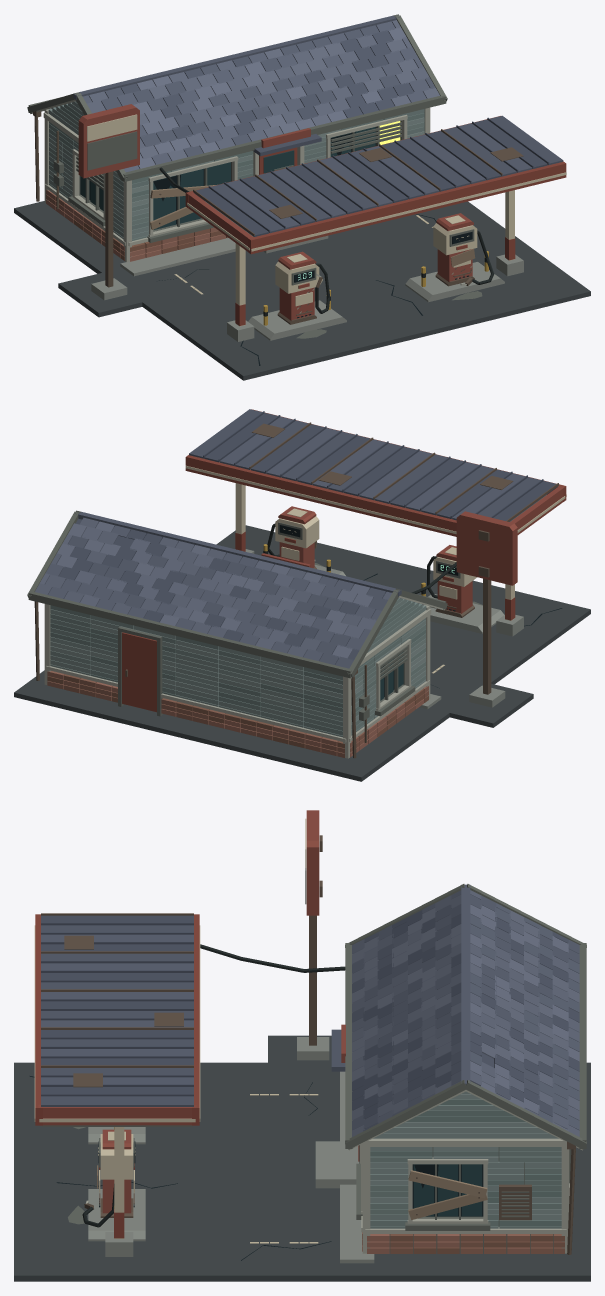
The model's file is Gas Station.fbx.
3 views of the same model, one above another, from view 1: azimuth 30°, elevation 25°; view 2: azimuth 150°, elevation 25°; view 3: azimuth 270°, elevation 25° (orthographic). The views are drawn at different scales.
Parts seen in each view (by area): view 1: 12 • forecourt slab, 07 • slate shingles, 09 • ribbed canopy roof, 03 • trim and boarded windows, 05 • brick base and entrance step, 06 • shop roof and fascia, 08 • canopy structure, 15 • roadside sign, 02 • sage clapboard siding, 04 • shop glazing, 20 • pump B body, 18 • pump A body (+5 smaller); view 2: 07 • slate shingles, 12 • forecourt slab, 02 • sage clapboard siding, 09 • ribbed canopy roof, 06 • shop roof and fascia, 05 • brick base and entrance step, 03 • trim and boarded windows, 08 • canopy structure, 15 • roadside sign, 14 • service hardware, 20 • pump B body, 18 • pump A body (+1 smaller); view 3: 12 • forecourt slab, 07 • slate shingles, 09 • ribbed canopy roof, 02 • sage clapboard siding, 05 • brick base and entrance step, 06 • shop roof and fascia, 03 • trim and boarded windows, 08 • canopy structure, 15 • roadside sign, 14 • service hardware, 20 • pump B body, 04 • shop glazing (+2 smaller).
Boxes of the visible parts, x1,y1,x2,y2 form: 12 • forecourt slab: (14,201,590,380); 07 • slate shingles: (83,20,439,172); 09 • ribbed canopy roof: (193,115,563,236); 03 • trim and boarded windows: (43,107,430,262); 05 • brick base and entrance step: (46,189,504,340); 06 • shop roof and fascia: (27,14,447,181); 08 • canopy structure: (185,116,566,254); 15 • roadside sign: (78,104,139,300); 02 • sage clapboard siding: (48,98,424,240); 04 • shop glazing: (80,121,400,229); 20 • pump B body: (433,213,477,286); 18 • pump A body: (275,251,319,324); 07 • slate shingles: (35,517,391,668); 12 • forecourt slab: (14,525,590,781); 02 • sage clapboard siding: (50,597,426,737); 09 • ribbed canopy roof: (189,409,558,521); 06 • shop roof and fascia: (27,510,447,678); 05 • brick base and entrance step: (47,565,504,757); 03 • trim and boarded windows: (44,604,431,758); 08 • canopy structure: (185,409,566,536); 15 • roadside sign: (456,511,517,707); 14 • service hardware: (34,544,456,758); 20 • pump B body: (275,506,319,568); 18 • pump A body: (433,545,477,617); 12 • forecourt slab: (14,1035,590,1281); 07 • slate shingles: (352,890,579,1136); 09 • ribbed canopy roof: (41,913,193,1106); 02 • sage clapboard siding: (370,1091,561,1228); 05 • brick base and entrance step: (88,1071,564,1263); 06 • shop roof and fascia: (331,884,586,1150); 03 • trim and boarded windows: (356,1138,571,1253); 08 • canopy structure: (34,914,200,1126); 15 • roadside sign: (297,810,329,1060); 14 • service hardware: (114,944,575,1254); 20 • pump B body: (97,1129,135,1217); 04 • shop glazing: (412,1164,483,1216).
Bounding box in the file's own units: 1263 × 573 × 1283.
